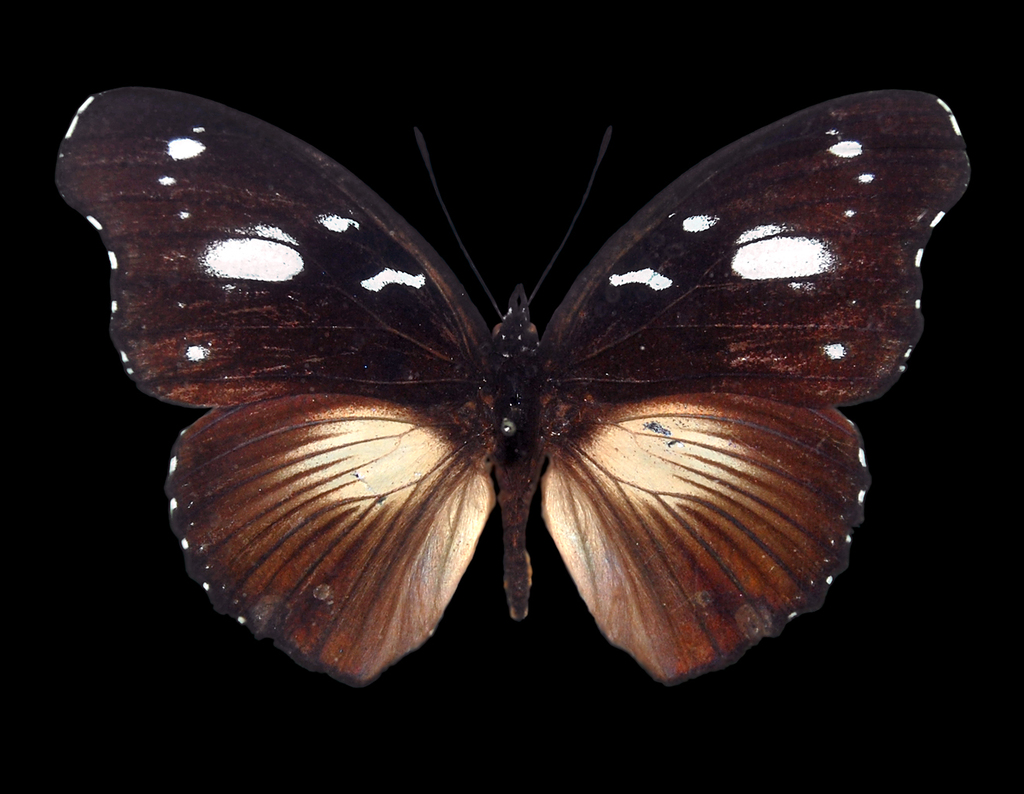Butterfly: (85, 39, 964, 689)
